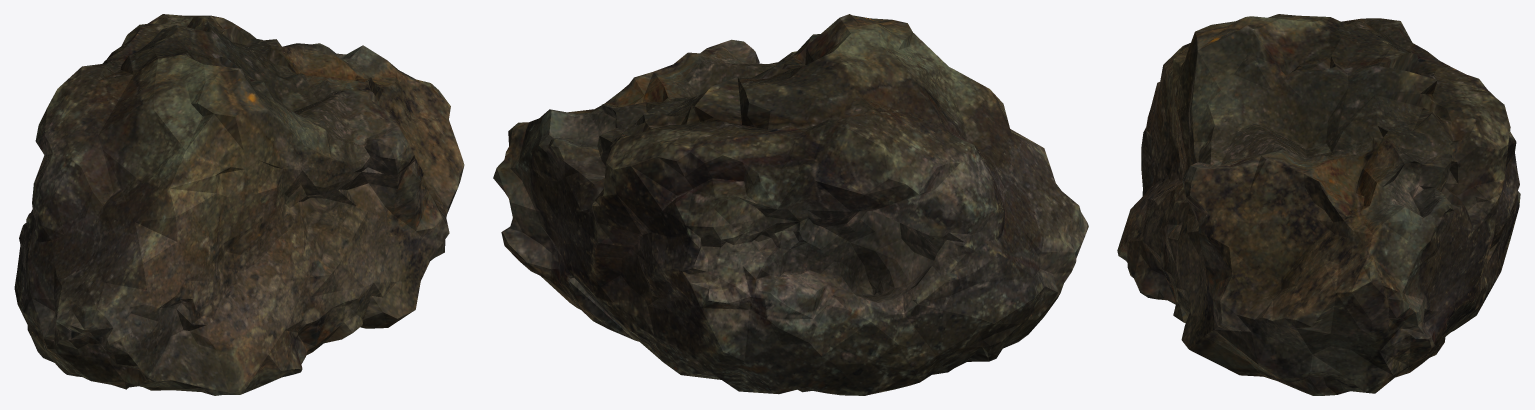
File: s3drocks02.gltf
3 views of the same model, side by side, from view 1: azimuth 30°, elevation 25°; view 2: azimuth 150°, elevation 25°; view 3: azimuth 270°, elevation 25° (orthographic). The views are drawn at different scales.
Visible parts, largest first — view 1: rocks02:7; view 2: rocks02:7; view 3: rocks02:7.
Boxes of the visible parts, box(x1,y1,x2,y2) form: rocks02:7: box(14, 14, 464, 395); rocks02:7: box(493, 14, 1088, 395); rocks02:7: box(1117, 14, 1520, 395).
Bounding box in the file's own units: 1.07 × 0.6186 × 0.8154.
Materials: 1 (1 with a texture image).
